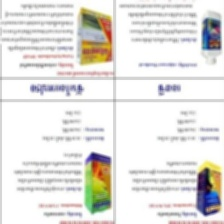book: (75, 5, 117, 67)
carton: (82, 150, 113, 215), (193, 157, 223, 218)
insecticide: (199, 7, 224, 65)
